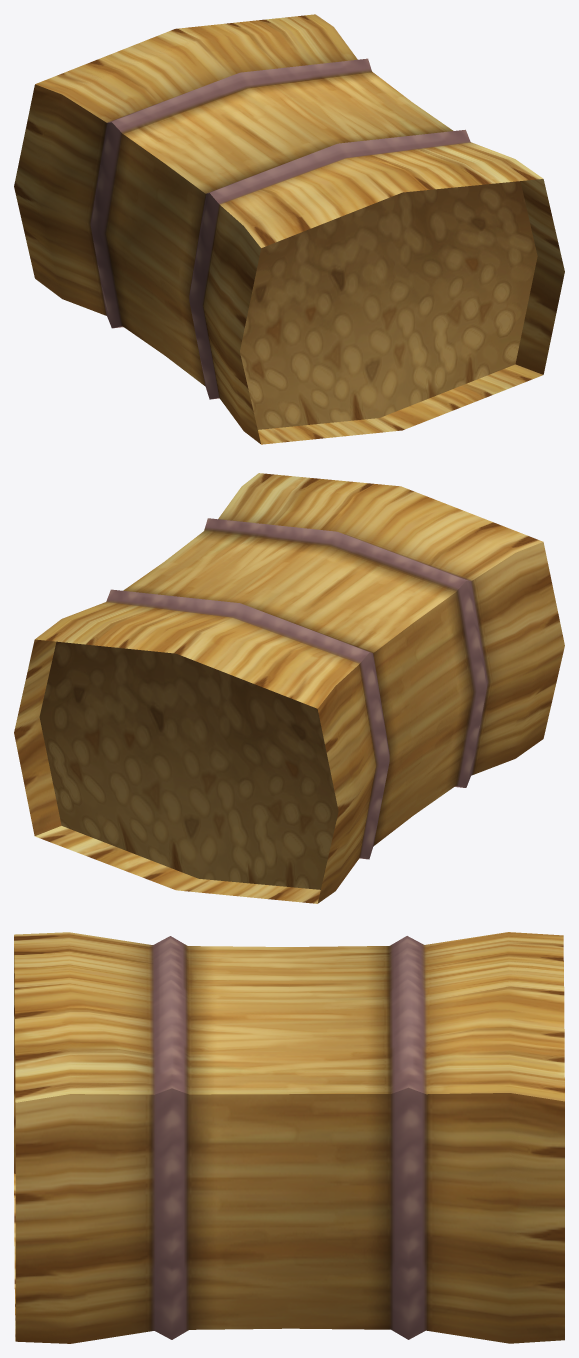
Rendered from straw.FBX.
3 renders of one model, top to bottom at view 1: azimuth 30°, elevation 25°; view 2: azimuth 150°, elevation 25°; view 3: azimuth 270°, elevation 25°, orthographic. The views are drawn at different scales.
Parts seen in each view (by area): view 1: straw; view 2: straw; view 3: straw.
Boxes of the visible parts, x1,y1,x2,y2 form: straw: (14, 14, 564, 444); straw: (14, 473, 564, 903); straw: (14, 932, 564, 1343).
Bounding box in the file's own units: 60.36 × 43.53 × 72.57.
